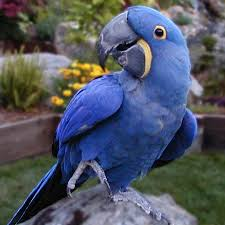guacamaya: (11, 4, 198, 199)
